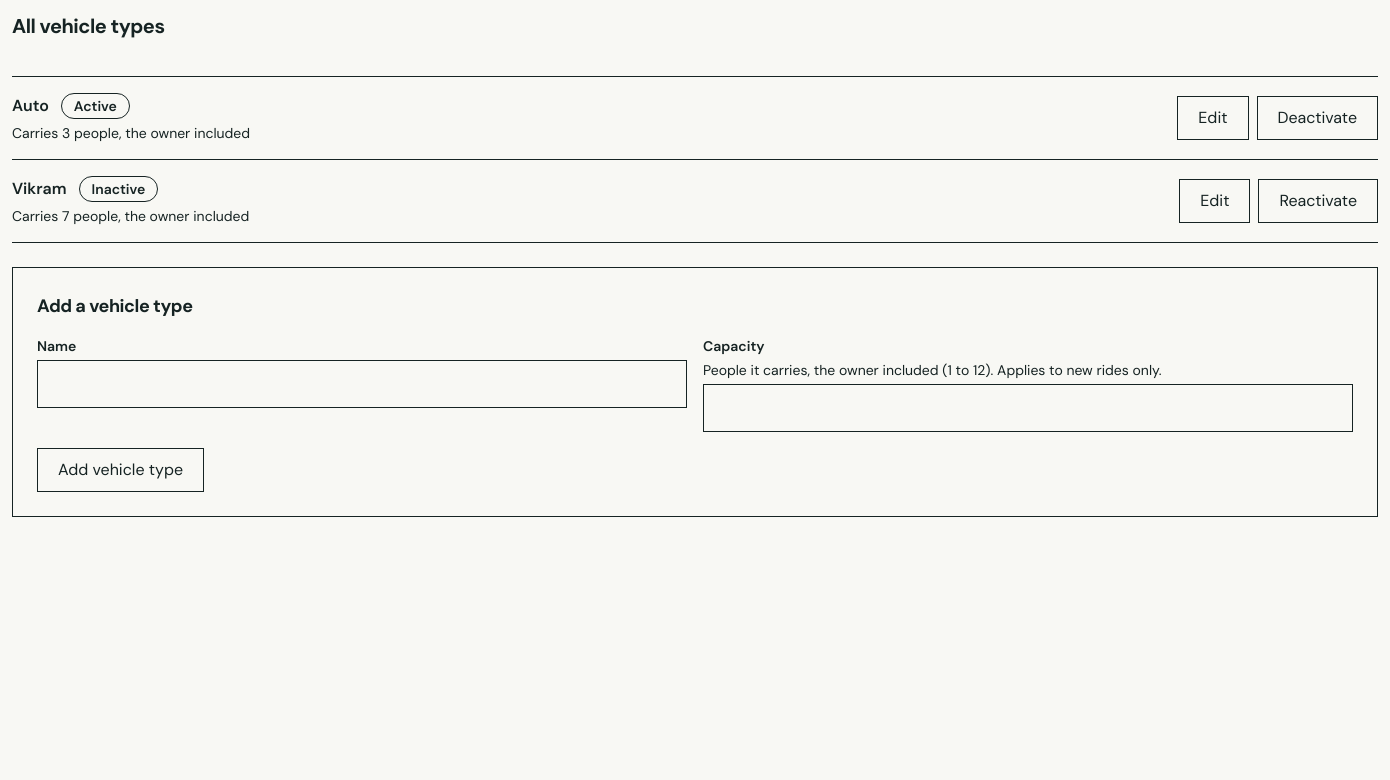
Scenario: VehicleTypesEditor (OA-FR-01 to 03, CS455-51) › shows the server messages next to the fields
What coordinates should you click on to do the following:
click the button with aria-label "Edit Auto"
I would click on:
 (1213, 118)
Its box is [1177,96,1248,140].
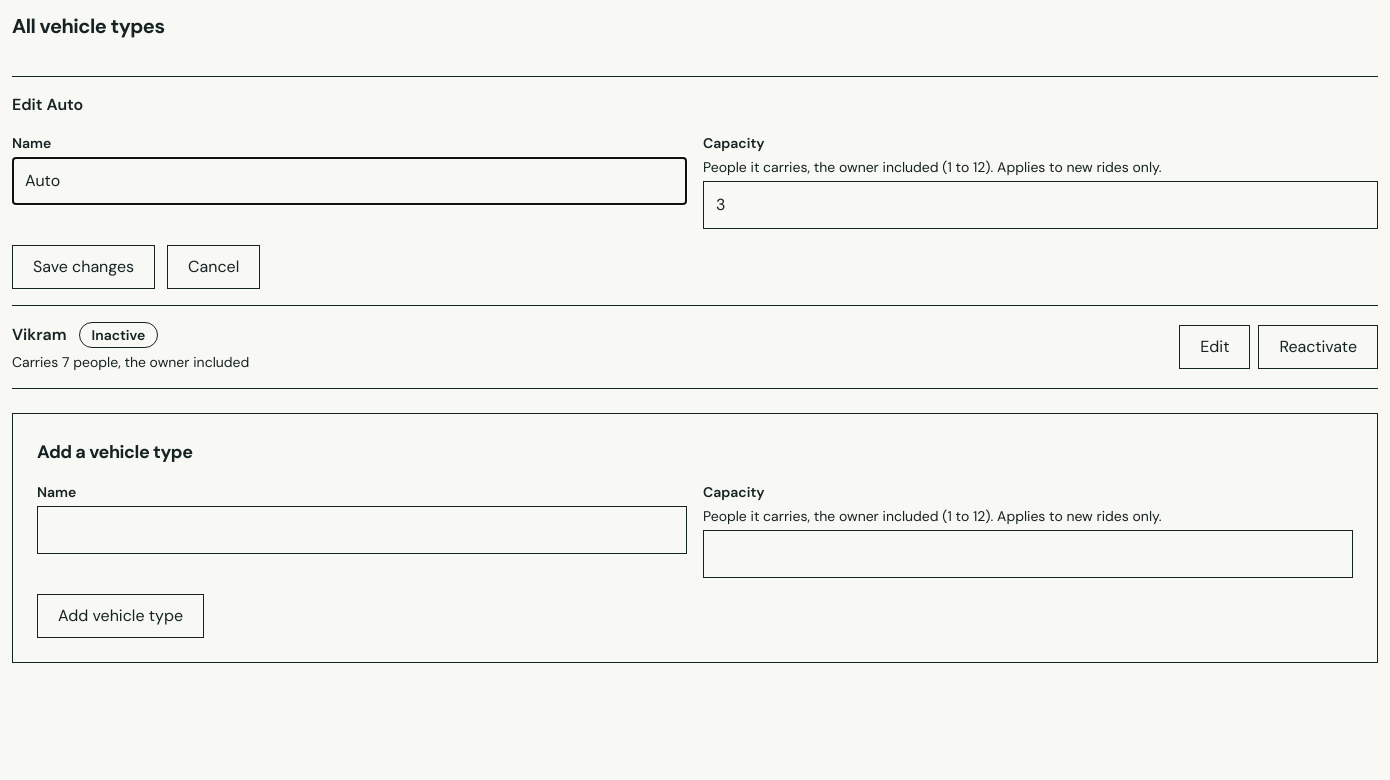
What coordinates should you click on to do the following:
click the button "Save changes"
I would click on:
 (84, 267)
Its box is [12,245,155,289].
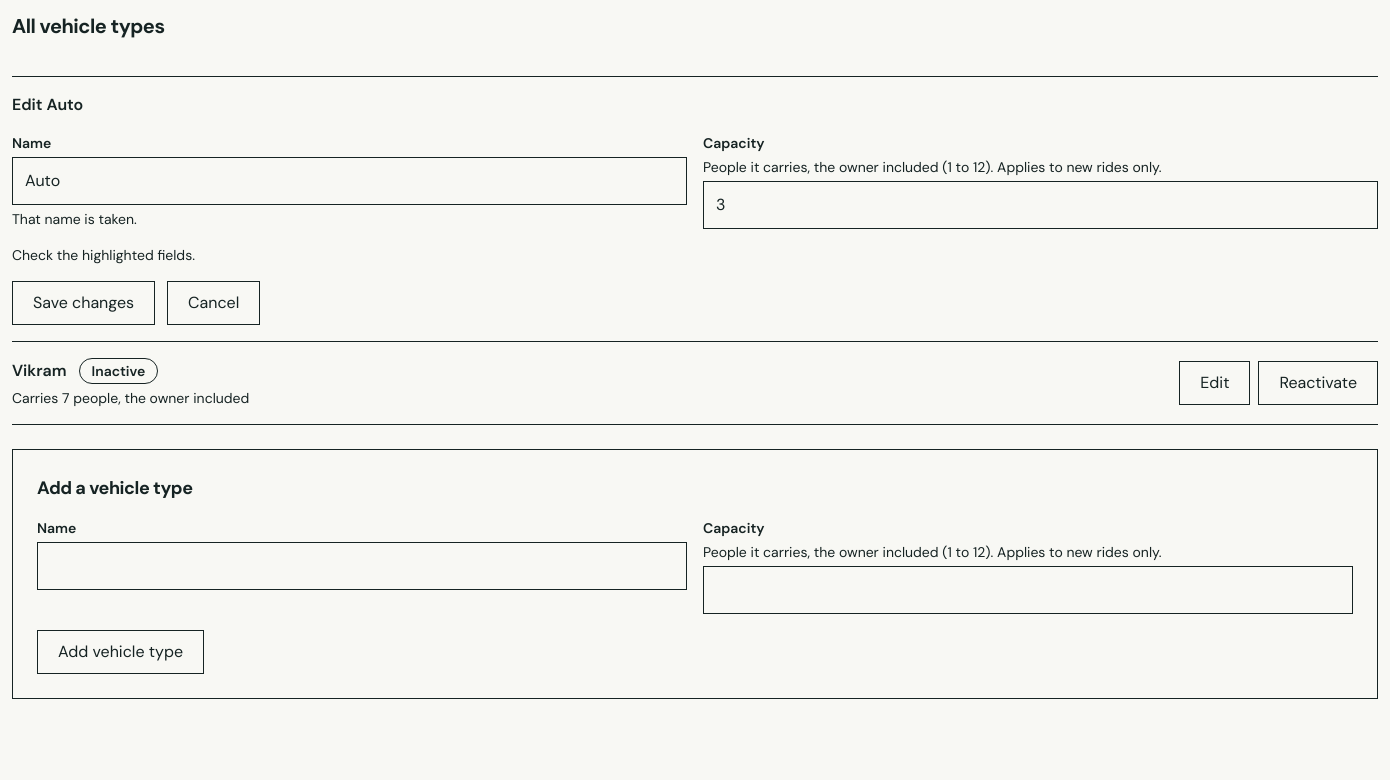
Check: the text "That name is taken." is shown, box [12,210,137,228]
